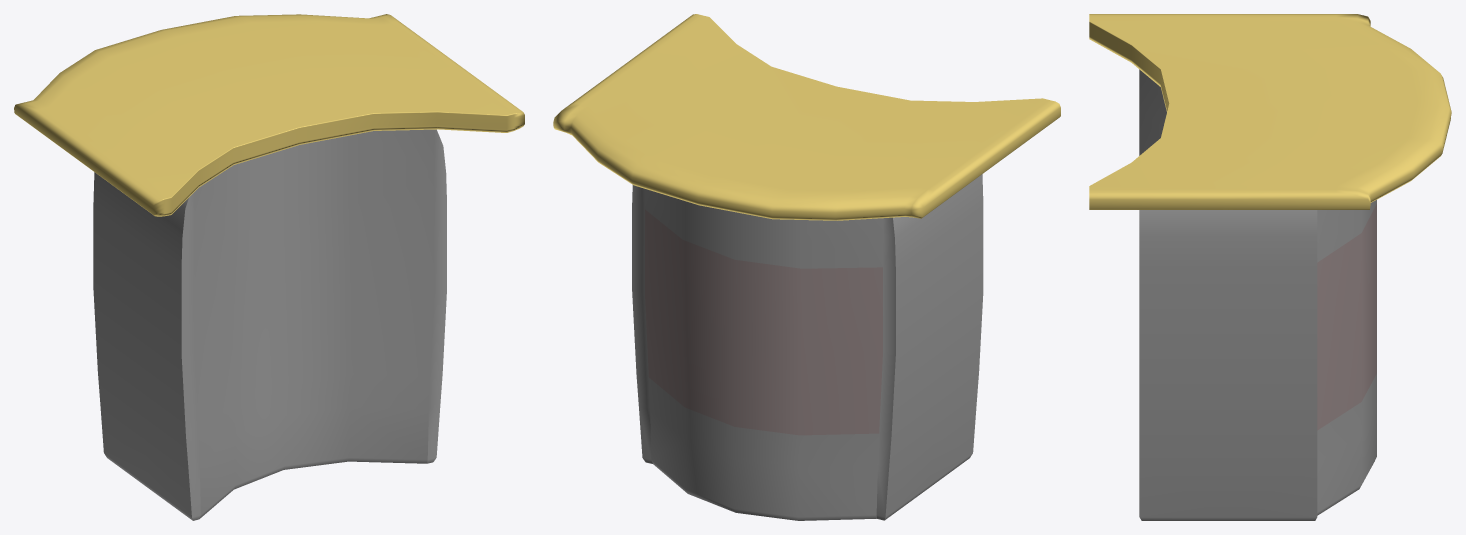
The model's file is Player_Upgrade_Desk.fbx.
The picture shows the model from 3 angles, left to right: view 1: azimuth 30°, elevation 25°; view 2: azimuth 150°, elevation 25°; view 3: azimuth 270°, elevation 25°; orthographic projection.
Visible parts, largest first — view 1: Player_Upgrade_Desk; view 2: Player_Upgrade_Desk; view 3: Player_Upgrade_Desk.
Boxes of the visible parts, x1,y1,x2,y2 form: Player_Upgrade_Desk: [14, 14, 524, 520]; Player_Upgrade_Desk: [553, 14, 1060, 520]; Player_Upgrade_Desk: [1089, 14, 1451, 520].
Bounding box in the file's own units: 3.05 × 2.8 × 2.55.
